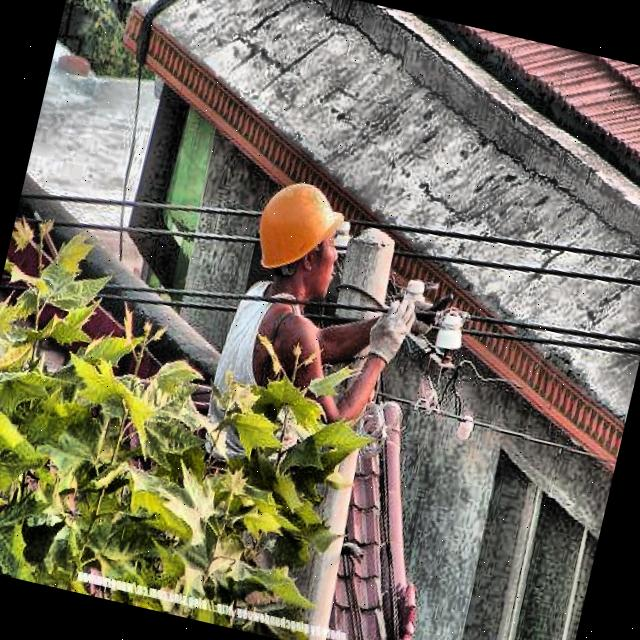helmet: (235, 164, 356, 310)
